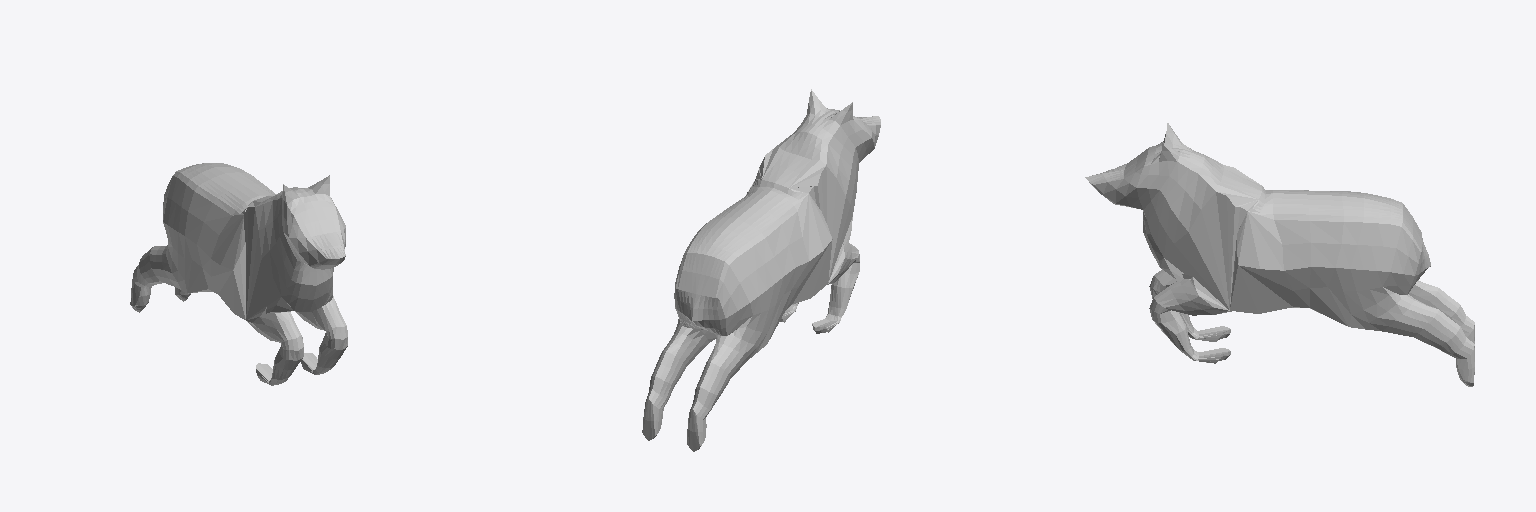
File: piesblend_000014.obj
3 renders of one model, left to right at view 1: azimuth 30°, elevation 25°; view 2: azimuth 150°, elevation 25°; view 3: azimuth 270°, elevation 25°, orthographic.
Parts seen in each view (by area): view 1: Cube; view 2: Cube; view 3: Cube.
Boxes of the visible parts, x1=… form: Cube: x1=130, y1=163, x2=347, y2=385; Cube: x1=642, y1=89, x2=880, y2=451; Cube: x1=1085, y1=123, x2=1474, y2=386.
Bounding box in the file's own units: 2.55 × 6.45 × 9.48.